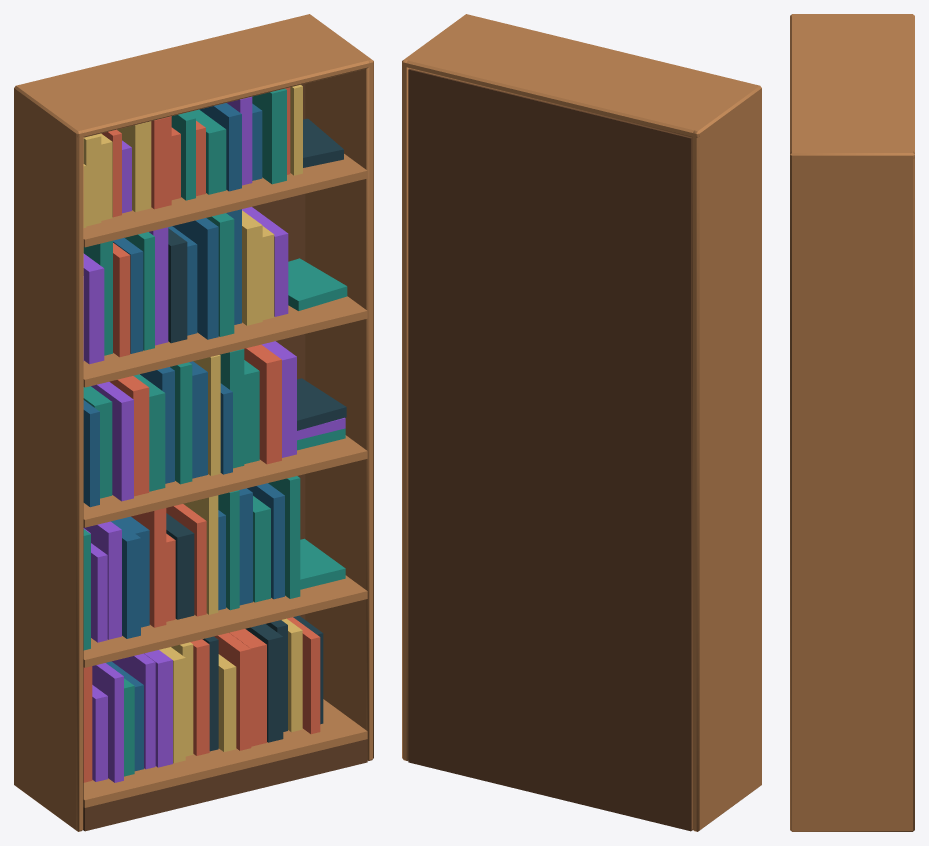
Rendered from bookshelf.glb.
3 renders of one model, left to right at view 1: azimuth 30°, elevation 25°; view 2: azimuth 150°, elevation 25°; view 3: azimuth 270°, elevation 25°, orthographic. The views are drawn at different scales.
Visible parts, largest first — view 1: body; view 2: body; view 3: body.
Boxes of the visible parts, bbox=[...] form: body: bbox=[14, 14, 373, 831]; body: bbox=[402, 14, 761, 831]; body: bbox=[790, 14, 914, 831].
Bounding box in the file's own units: 80 × 180 × 30.
